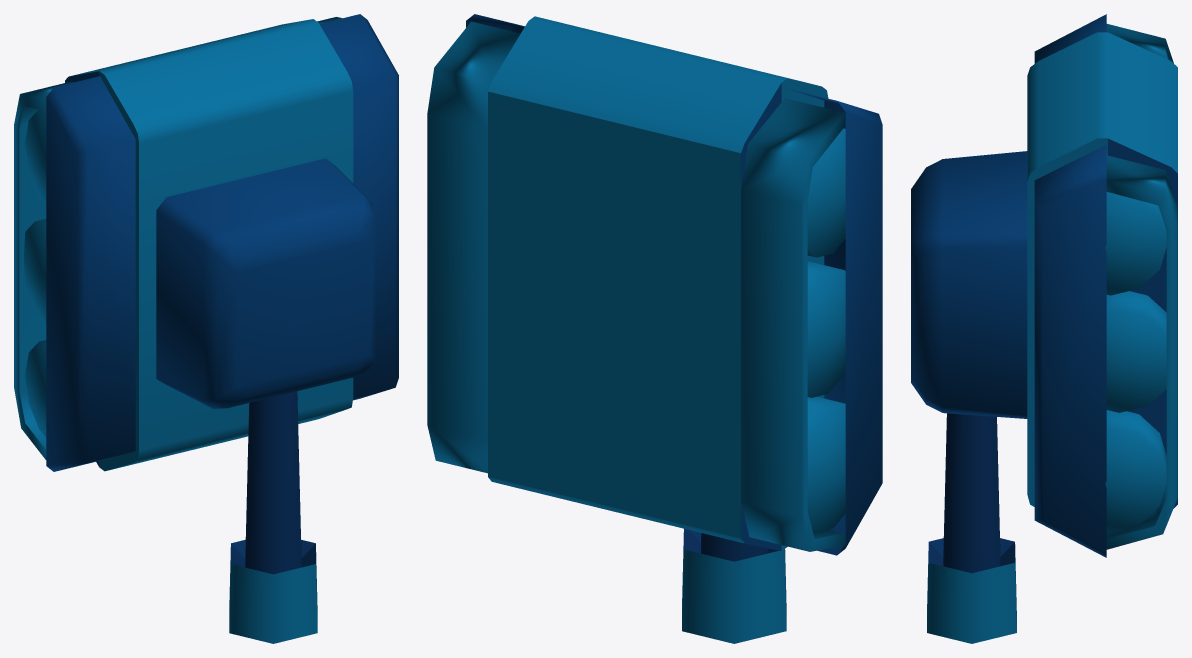
Rendered from tank_player.glb.
3 views of the same model, side by side, from view 1: azimuth 30°, elevation 25°; view 2: azimuth 150°, elevation 25°; view 3: azimuth 270°, elevation 25° (orthographic). The views are drawn at different scales.
Visible parts, largest first — view 1: Body, Turret; view 2: Body, Turret; view 3: Body, Turret.
Part boxes in pixels (x1,y1,x2,y2): Body: (14,14,398,471); Turret: (156,158,375,643); Body: (427,14,882,555); Turret: (682,529,786,643); Body: (1027,14,1177,557); Turret: (911,151,1027,643).
Bounding box in the file's own units: 0.8856 × 1.39 × 0.624.
1 material, 1 textured.
